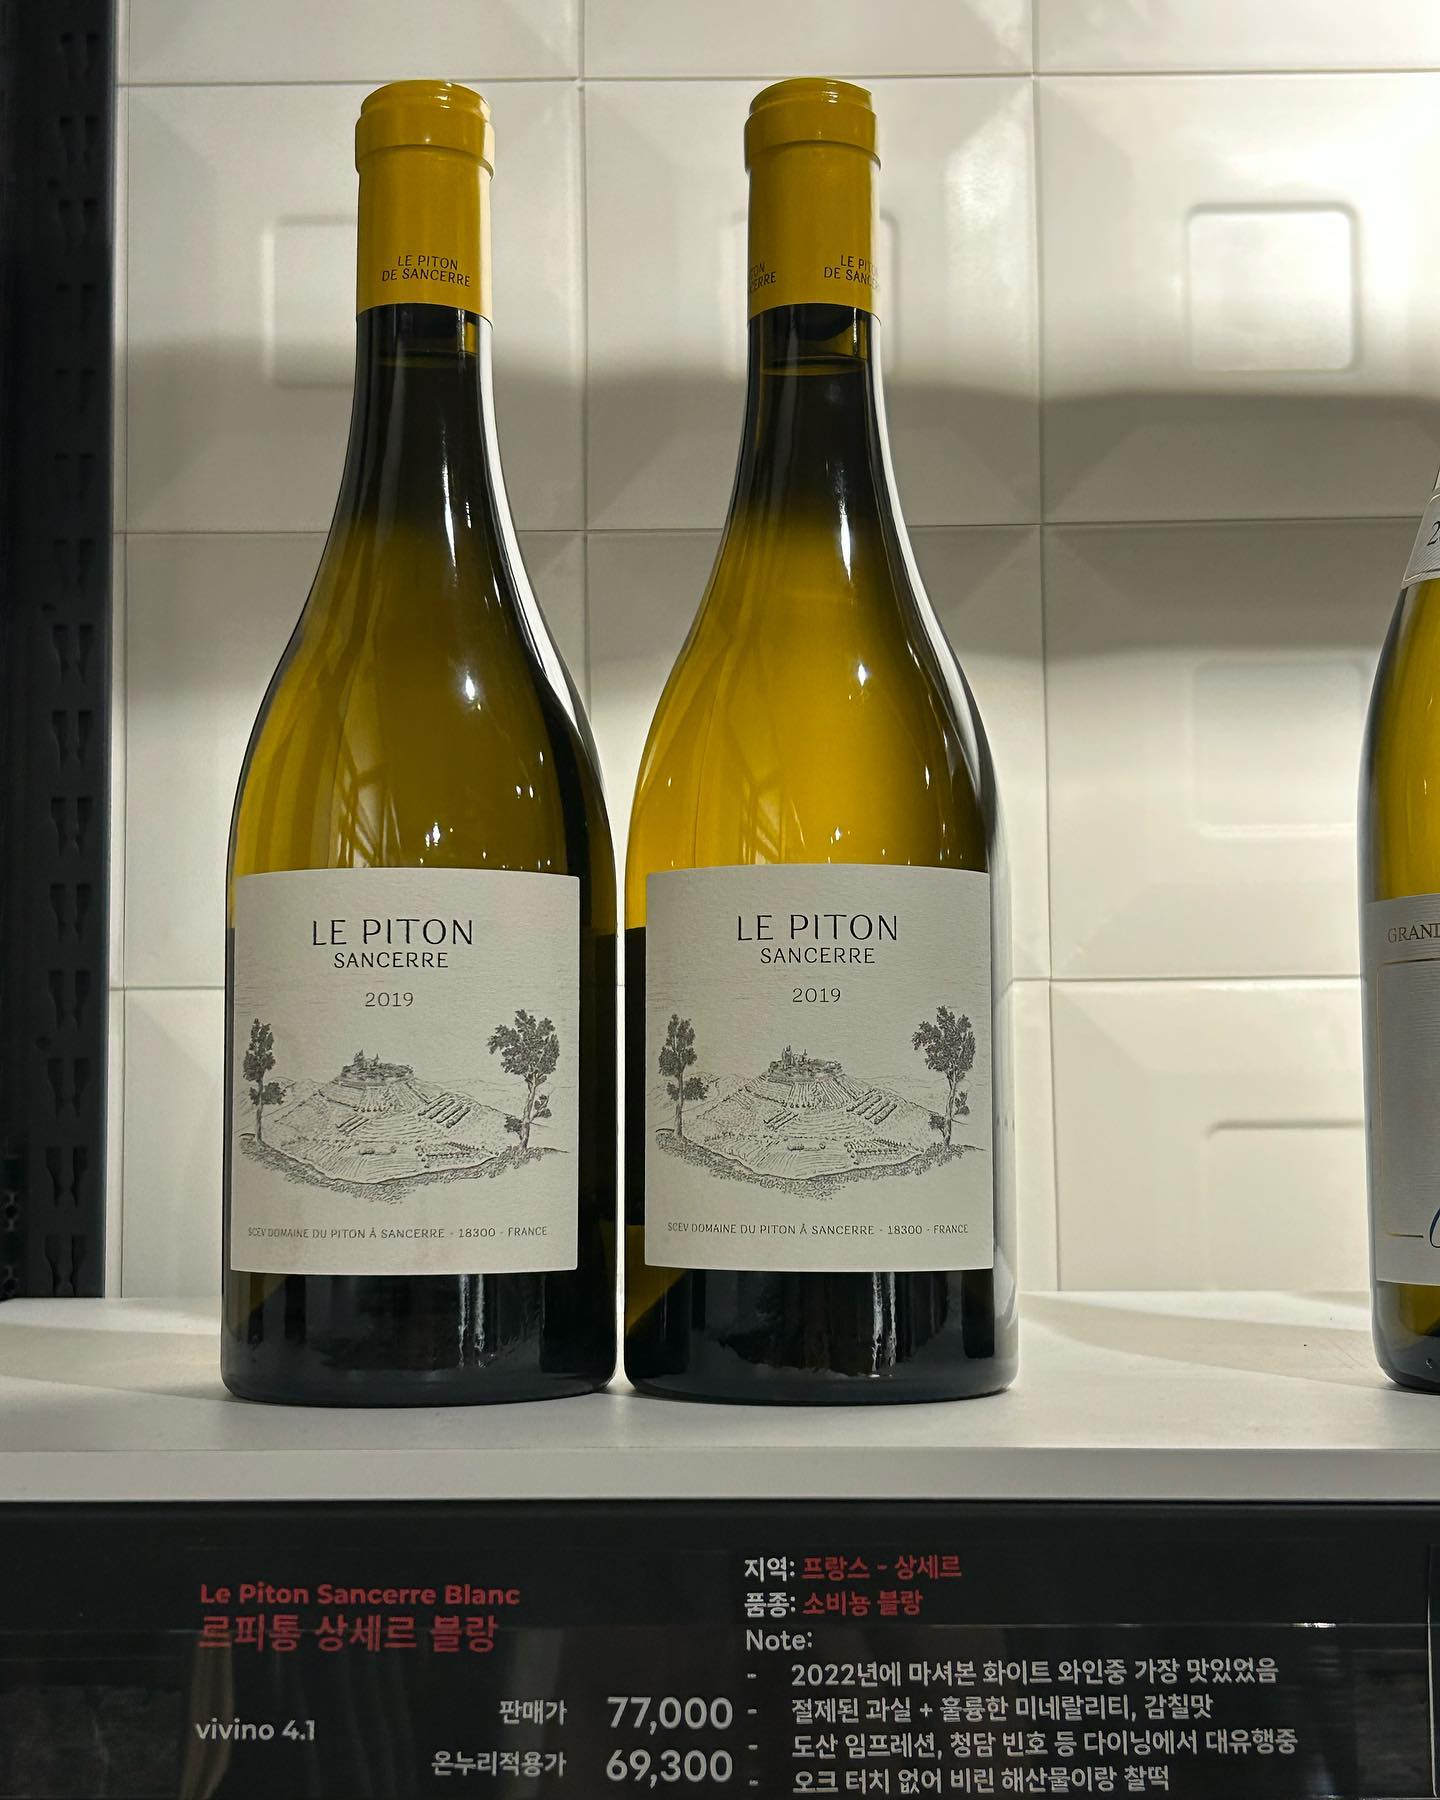alcohol: (210, 69, 622, 1419), (622, 65, 1027, 1415), (1346, 441, 1440, 1400)
